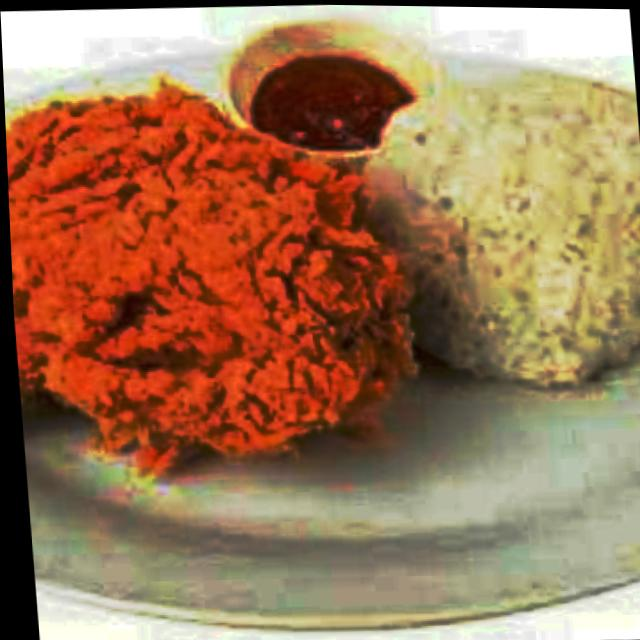fried_chicken: (3, 69, 422, 470)
ketchup: (248, 53, 408, 148)
rice: (356, 79, 640, 391)
